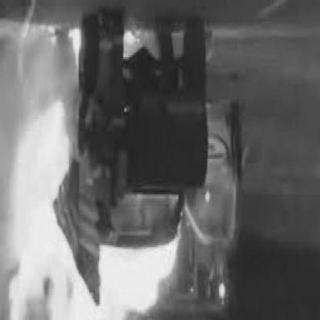other: (202, 193, 218, 209)
